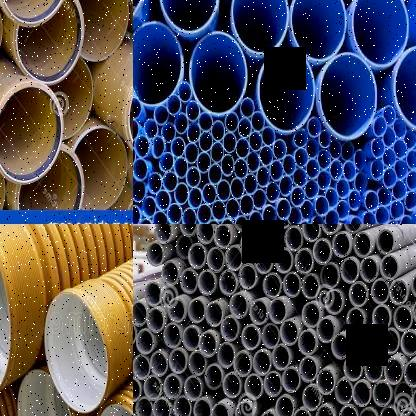pipe: (45, 290, 109, 413), (0, 81, 63, 184), (13, 0, 84, 85), (318, 53, 378, 140), (189, 32, 247, 117), (258, 48, 314, 134), (17, 144, 85, 210), (74, 126, 126, 210), (133, 20, 183, 107), (353, 0, 409, 68), (291, 0, 347, 62), (75, 0, 128, 61), (232, 0, 289, 54), (17, 369, 77, 416), (159, 0, 219, 34), (393, 45, 416, 131), (0, 0, 70, 26), (380, 254, 399, 282), (264, 225, 284, 251), (320, 262, 340, 288), (238, 263, 258, 289), (262, 272, 282, 298), (324, 289, 344, 315), (380, 328, 400, 354), (384, 358, 404, 384), (352, 381, 372, 407), (373, 380, 392, 407), (302, 384, 321, 411), (264, 370, 282, 398), (370, 279, 390, 304), (376, 228, 395, 254), (353, 232, 372, 258), (313, 238, 332, 264), (340, 258, 359, 284), (389, 279, 408, 305), (349, 282, 368, 308), (372, 305, 391, 331), (298, 330, 317, 356), (233, 350, 252, 376), (244, 374, 263, 400), (394, 382, 413, 408), (295, 248, 313, 275), (360, 256, 378, 283), (199, 331, 217, 358), (360, 326, 380, 350), (301, 274, 320, 299), (346, 308, 365, 333), (364, 357, 383, 382), (285, 226, 303, 252), (240, 230, 258, 256), (332, 232, 350, 258), (188, 243, 206, 269), (225, 245, 243, 271), (161, 260, 179, 286), (198, 270, 216, 296), (219, 270, 237, 296), (283, 272, 301, 298), (230, 293, 248, 319), (269, 298, 287, 324), (206, 302, 224, 328), (302, 302, 320, 328), (221, 316, 239, 342), (317, 317, 335, 343), (280, 320, 298, 346), (136, 328, 154, 354), (332, 333, 350, 359), (188, 350, 206, 376), (299, 356, 317, 382), (282, 366, 300, 392), (222, 372, 240, 398), (163, 374, 181, 400), (184, 376, 202, 402), (213, 224, 232, 248), (316, 370, 335, 394), (206, 247, 224, 272), (274, 248, 292, 273), (254, 249, 272, 274), (180, 269, 198, 294), (168, 298, 186, 323), (394, 306, 412, 331), (146, 308, 164, 333), (164, 323, 182, 348), (242, 325, 260, 350), (217, 342, 235, 367), (272, 344, 290, 369), (169, 349, 187, 374), (253, 350, 271, 375), (205, 364, 223, 389), (335, 379, 353, 404), (182, 326, 199, 352), (146, 242, 164, 266), (144, 282, 162, 306), (188, 299, 206, 323), (250, 300, 268, 324), (262, 324, 280, 348), (400, 330, 416, 357), (150, 352, 168, 376), (344, 356, 362, 380), (133, 355, 150, 380), (176, 235, 193, 259), (144, 376, 161, 400), (276, 394, 294, 416), (173, 395, 191, 416), (133, 301, 148, 326), (134, 135, 150, 158), (174, 182, 189, 206), (196, 224, 214, 244), (211, 119, 226, 142), (154, 224, 172, 243), (135, 397, 153, 416), (153, 397, 171, 416), (162, 171, 178, 192), (156, 190, 172, 211), (393, 158, 408, 180), (216, 180, 231, 202), (225, 198, 240, 220), (193, 398, 211, 416), (133, 158, 147, 181), (290, 187, 306, 207), (372, 116, 387, 137), (211, 200, 226, 221), (167, 203, 182, 224), (167, 94, 181, 116), (186, 100, 200, 122), (174, 112, 188, 134), (382, 126, 396, 148), (210, 141, 224, 163), (184, 142, 198, 164), (370, 158, 384, 180), (256, 166, 270, 188), (186, 166, 200, 188), (148, 172, 162, 194), (188, 187, 202, 209), (240, 194, 254, 216), (142, 196, 156, 218), (277, 199, 291, 221), (336, 200, 350, 222), (302, 224, 320, 241), (240, 97, 255, 117), (161, 123, 176, 143), (235, 138, 250, 158), (382, 148, 397, 168), (159, 152, 174, 172), (230, 178, 245, 198), (404, 362, 416, 387), (221, 154, 234, 177), (251, 111, 265, 132), (144, 118, 158, 139), (186, 122, 200, 143), (198, 131, 212, 152), (222, 132, 236, 153), (272, 139, 286, 160), (197, 152, 211, 173), (234, 158, 248, 179), (336, 178, 350, 199), (266, 182, 280, 203), (203, 184, 217, 205), (390, 199, 404, 220), (300, 200, 314, 221), (270, 160, 283, 182), (235, 401, 254, 416), (154, 105, 168, 125), (224, 112, 238, 132), (238, 118, 252, 138), (262, 126, 276, 146), (171, 137, 185, 157), (260, 146, 274, 166), (294, 148, 308, 168), (174, 158, 188, 178), (306, 159, 320, 179), (208, 164, 222, 184), (383, 168, 397, 188), (354, 172, 368, 192), (392, 180, 406, 200), (365, 191, 379, 211), (315, 196, 329, 216), (197, 204, 211, 224), (283, 154, 296, 175), (244, 173, 257, 194), (253, 189, 266, 210), (198, 112, 212, 131), (262, 205, 276, 224), (152, 136, 164, 158), (383, 105, 396, 125), (341, 141, 354, 161), (247, 152, 260, 172), (343, 161, 356, 181), (133, 181, 146, 201), (287, 207, 302, 224), (248, 132, 262, 150), (318, 149, 330, 170), (354, 150, 366, 171), (293, 168, 307, 186), (305, 180, 319, 198), (378, 188, 392, 206), (326, 187, 338, 208), (375, 206, 389, 224), (371, 138, 384, 157), (318, 171, 331, 190), (330, 160, 342, 180), (280, 176, 292, 196), (182, 207, 196, 224), (394, 140, 407, 158), (307, 138, 318, 159), (349, 190, 360, 211), (394, 119, 406, 138), (316, 404, 335, 416), (294, 130, 308, 146), (213, 402, 229, 416), (330, 139, 341, 159), (405, 170, 416, 190), (405, 191, 416, 211), (404, 131, 416, 149), (179, 224, 197, 236), (321, 224, 340, 235), (339, 405, 358, 416), (379, 405, 398, 416), (406, 149, 416, 169), (133, 377, 141, 402), (325, 210, 339, 224), (153, 211, 167, 224), (362, 211, 376, 224), (248, 211, 262, 224), (343, 224, 362, 233), (359, 407, 378, 416), (133, 97, 141, 118), (410, 272, 416, 298), (293, 408, 312, 416), (252, 224, 270, 232), (233, 224, 251, 232), (399, 408, 416, 416), (234, 215, 249, 224), (133, 119, 139, 141), (133, 206, 140, 224), (311, 215, 325, 224), (400, 215, 413, 224), (412, 298, 416, 325), (412, 387, 416, 414), (350, 216, 363, 224), (138, 218, 153, 224), (220, 218, 234, 224), (206, 219, 220, 224)
